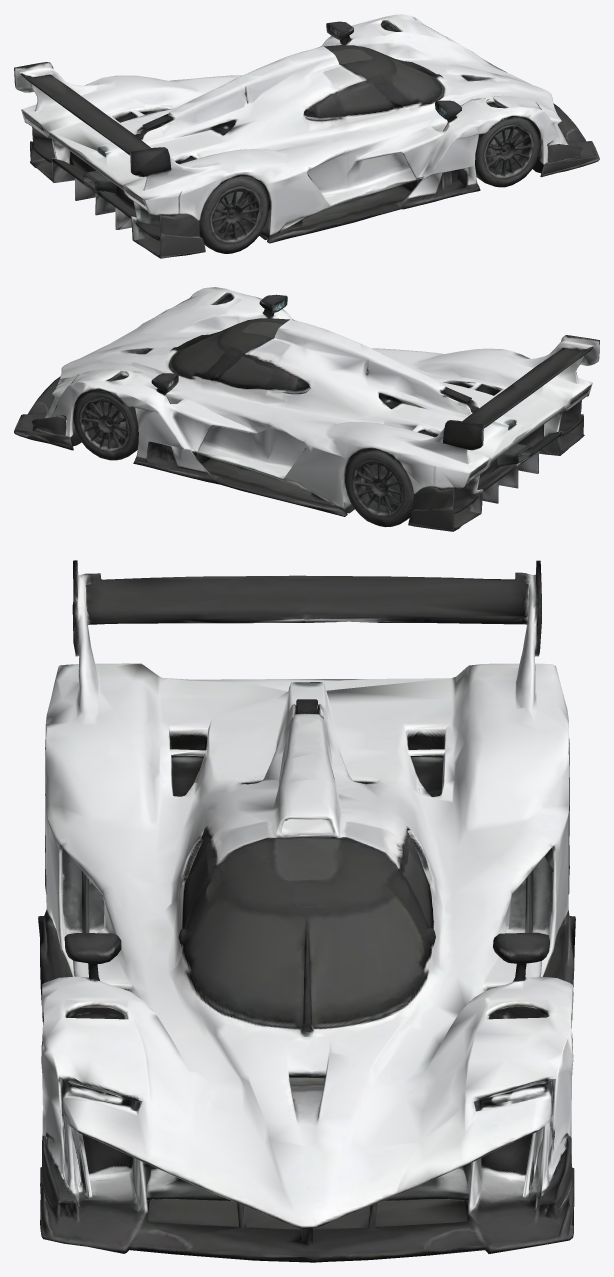
The model's file is mesa.glb.
3 views of the same model, one above another, from view 1: azimuth 30°, elevation 25°; view 2: azimuth 150°, elevation 25°; view 3: azimuth 270°, elevation 25° (orthographic). The views are drawn at different scales.
Visible parts, largest first — view 1: tripo_node_c88efd2c-ff54-4962-b6b8-2077da862e15; view 2: tripo_node_c88efd2c-ff54-4962-b6b8-2077da862e15; view 3: tripo_node_c88efd2c-ff54-4962-b6b8-2077da862e15.
Part boxes in pixels (bbox=[...]): tripo_node_c88efd2c-ff54-4962-b6b8-2077da862e15: bbox=[14, 14, 599, 258]; tripo_node_c88efd2c-ff54-4962-b6b8-2077da862e15: bbox=[14, 287, 599, 531]; tripo_node_c88efd2c-ff54-4962-b6b8-2077da862e15: bbox=[38, 560, 575, 1262].
Size of the model in its own units: 1 by 0.2389 by 0.4805.
1 material, 1 textured.
